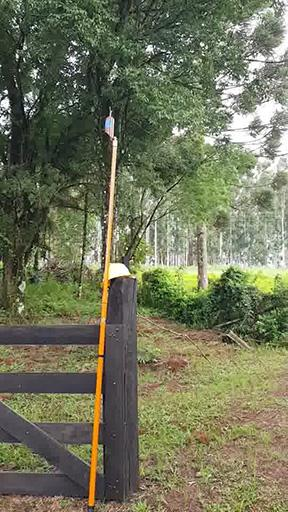Detector_Tensao_Contato: (101, 107, 116, 141)
Vara_Manobra: (87, 138, 119, 508)
